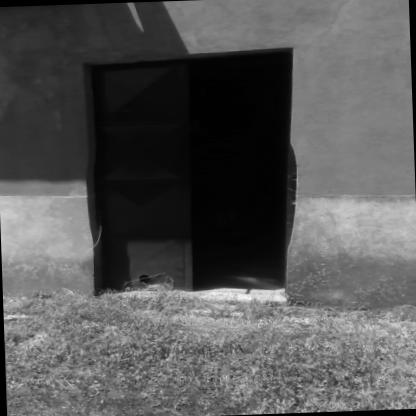open: (66, 34, 316, 310)
